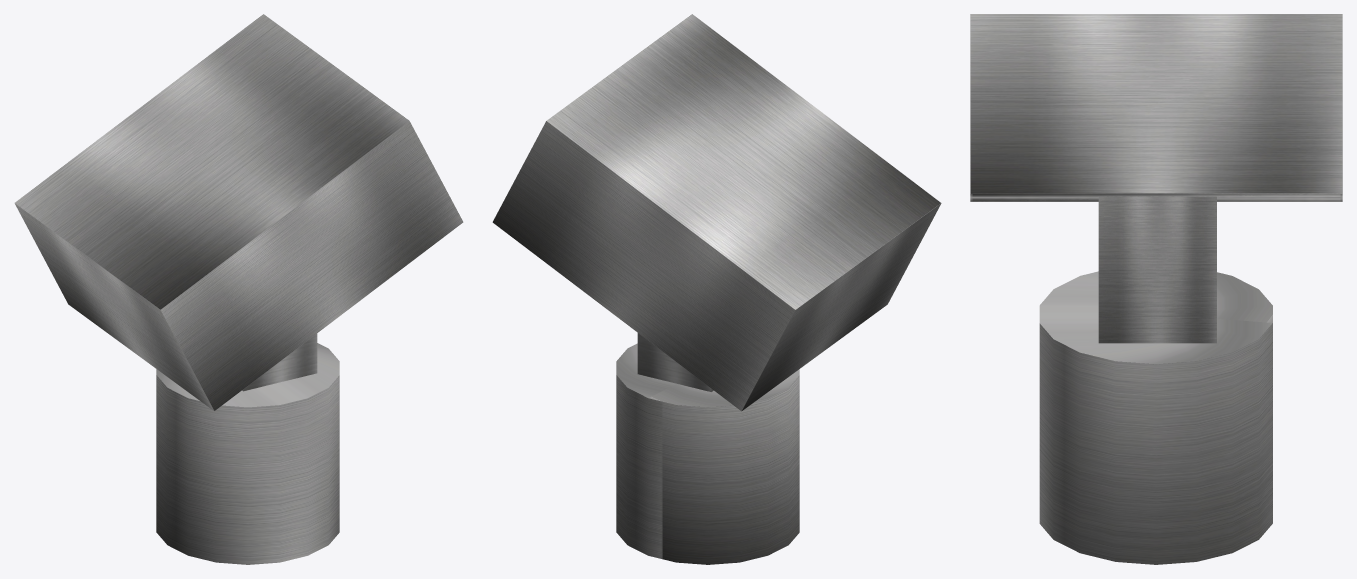
File: Sam.FBX
The picture shows the model from 3 angles, left to right: view 1: azimuth 30°, elevation 25°; view 2: azimuth 150°, elevation 25°; view 3: azimuth 270°, elevation 25°; orthographic projection. The views are drawn at different scales.
Parts seen in each view (by area): view 1: Box005, Cylinder001, Box004; view 2: Box005, Cylinder001, Box004; view 3: Box005, Cylinder001, Box004.
Boxes of the visible parts, box(x1,y1,x2,y2) form: Box005: box(14, 14, 463, 411); Cylinder001: box(156, 343, 339, 564); Box004: box(242, 333, 317, 391); Box005: box(492, 14, 941, 411); Cylinder001: box(616, 343, 799, 564); Box004: box(637, 333, 713, 391); Box005: box(970, 14, 1342, 201); Cylinder001: box(1039, 271, 1272, 564); Box004: box(1098, 196, 1216, 343).
Size of the model in its own units: 3.64 by 5.01 by 3.04.
Materials: 3 (3 with a texture image).
